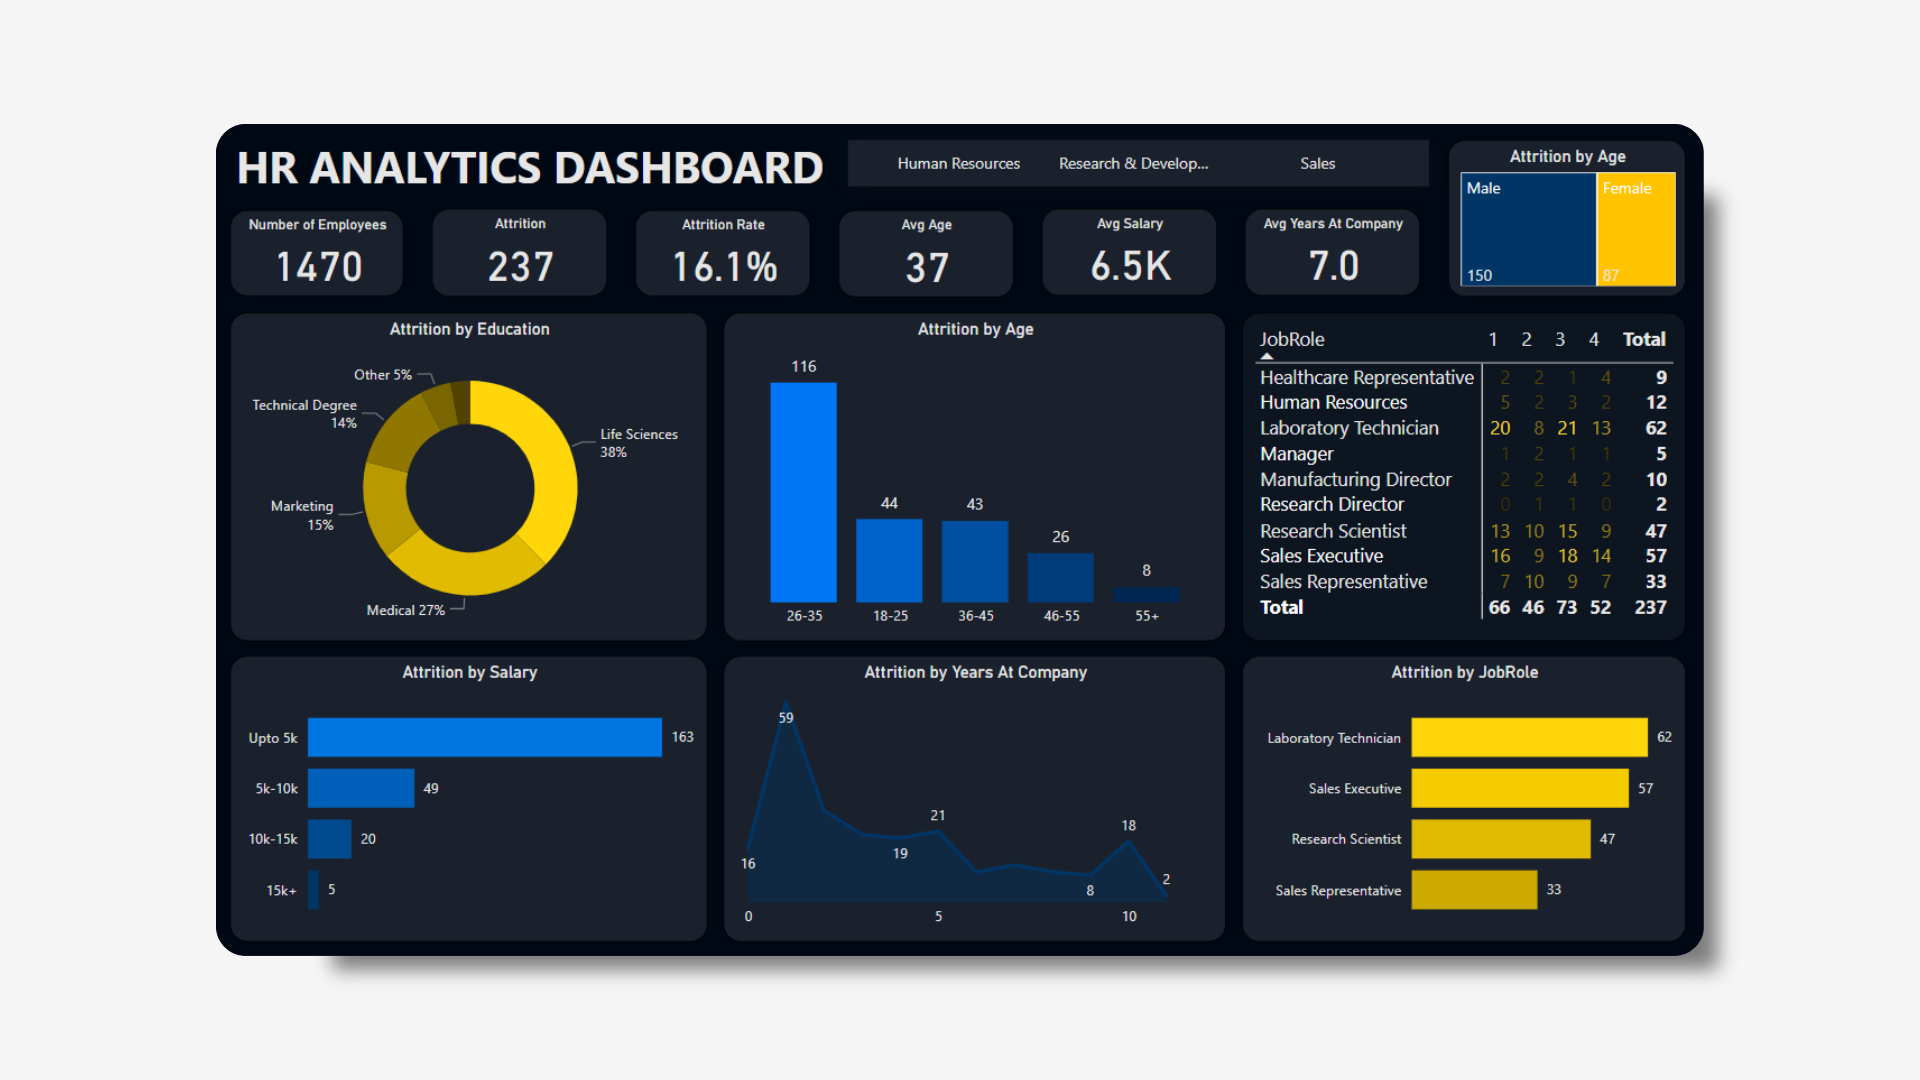

Layout of this report page (visuals, bound fields, positions):
{"tool":"powerbi","page":{"name":"Page 1","canvas":[1280,720],"ordinal":0},"visuals":[{"type":"card","title":"Number of Employees","fields":{"Values":["CountNonNull(HR_Analytics.EmpID)"]},"box":[12.1,76,149.6,74.8],"z":0,"group":"g1"},{"type":"card","title":"Attrition","fields":{"Values":["Sum(HR_Analytics.AttritionCount)"]},"box":[185.8,74.8,150.8,76],"z":1000,"group":"g1"},{"type":"card","title":"Attrition Rate","fields":{"Values":["HR_Analytics.AttritionRate"]},"box":[360.6,76,150.8,74.8],"z":2000,"group":"g1"},{"type":"card","title":"Avg Age","fields":{"Values":["Avg(HR_Analytics.Age)"]},"box":[535.5,75.5,150.9,75.5],"z":3000,"group":"g1"},{"type":"card","title":"Avg Salary","fields":{"Values":["Avg(HR_Analytics.MonthlyIncome)"]},"box":[710.5,75.2,150.9,75.5],"z":4000,"group":"g1"},{"type":"card","title":"Avg Years At Company","fields":{"Values":["Avg(HR_Analytics.YearsAtCompany)"]},"box":[885.5,75.2,150.9,75.5],"z":5000,"group":"g1"},{"type":"donutChart","title":"Attrition by Education","fields":{"Category":["HR_Analytics.EducationField"],"Y":["Sum(HR_Analytics.AttritionCount)"]},"box":[12.1,163.6,411.4,283.5],"z":6000,"group":"g3"},{"type":"columnChart","title":"Attrition by Age","fields":{"Category":["HR_Analytics.AgeGroup"],"Y":["Sum(HR_Analytics.AttritionCount)"]},"box":[436.8,163.5,433.1,283.5],"z":7000,"group":"g3"},{"type":"pivotTable","fields":{"Rows":["HR_Analytics.JobRole"],"Columns":["HR_Analytics.JobSatisfaction"],"Values":["Sum(HR_Analytics.AttritionCount)"]},"box":[883.2,163.6,382.4,283.5],"z":8000,"group":"g3"},{"type":"barChart","title":"Attrition by Salary","fields":{"Category":["HR_Analytics.SalarySlab"],"Y":["Sum(HR_Analytics.AttritionCount)"]},"box":[12.1,459.7,411.4,246.1],"z":9000,"group":"g2"},{"type":"barChart","title":"Attrition by JobRole","fields":{"Category":["HR_Analytics.JobRole"],"Y":["Sum(HR_Analytics.AttritionCount)"]},"box":[883.2,459.7,382.4,246.1],"z":10000,"group":"g2"},{"type":"areaChart","title":"Attrition by Years At Company","fields":{"Category":["HR_Analytics.YearsAtCompany"],"Y":["Sum(HR_Analytics.AttritionCount)"]},"box":[436.8,459.7,433.1,246.1],"z":11000,"group":"g2"},{"type":"treemap","title":"Attrition by Age","fields":{"Values":["Sum(HR_Analytics.AttritionCount)"],"Group":["HR_Analytics.Gender"]},"box":[1060.5,15.7,205.1,135.1],"z":12000,"group":"g1"},{"type":"slicer","fields":{"Values":["HR_Analytics.Department"]},"box":[543.8,16.2,500,40],"z":13000},{"type":"textbox","box":[12.3,8.2,531,63.1],"z":14000},{"type":"group","id":"g1","title":"Group 1","box":[12.1,15.7,1253.5,135.3],"z":14001},{"type":"group","id":"g2","title":"Group 2","box":[12.1,459.7,1253.5,246.1],"z":14002},{"type":"group","id":"g3","title":"Group 3","box":[12.1,163.5,1253.5,283.7],"z":14003}]}

Visuals, with their boxes in screenshot pixels (x1, y1, x2, y2), scaled from the page's 1280x720 canvas onto the 1920x1080 screenshot:
"Number of Employees" card: box(18, 114, 243, 226)
"Attrition" card: box(279, 112, 505, 226)
"Attrition Rate" card: box(541, 114, 767, 226)
"Avg Age" card: box(803, 113, 1030, 226)
"Avg Salary" card: box(1066, 113, 1292, 226)
"Avg Years At Company" card: box(1328, 113, 1555, 226)
"Attrition by Education" donutChart: box(18, 245, 635, 671)
"Attrition by Age" columnChart: box(655, 245, 1305, 670)
pivotTable - HR_Analytics.JobRole x HR_Analytics.JobSatisfaction: box(1325, 245, 1898, 671)
"Attrition by Salary" barChart: box(18, 690, 635, 1059)
"Attrition by JobRole" barChart: box(1325, 690, 1898, 1059)
"Attrition by Years At Company" areaChart: box(655, 690, 1305, 1059)
"Attrition by Age" treemap: box(1591, 24, 1898, 226)
slicer - HR_Analytics.Department: box(816, 24, 1566, 84)
textbox: box(18, 12, 815, 107)
"Group 1" group: box(18, 24, 1898, 226)
"Group 2" group: box(18, 690, 1898, 1059)
"Group 3" group: box(18, 245, 1898, 671)
